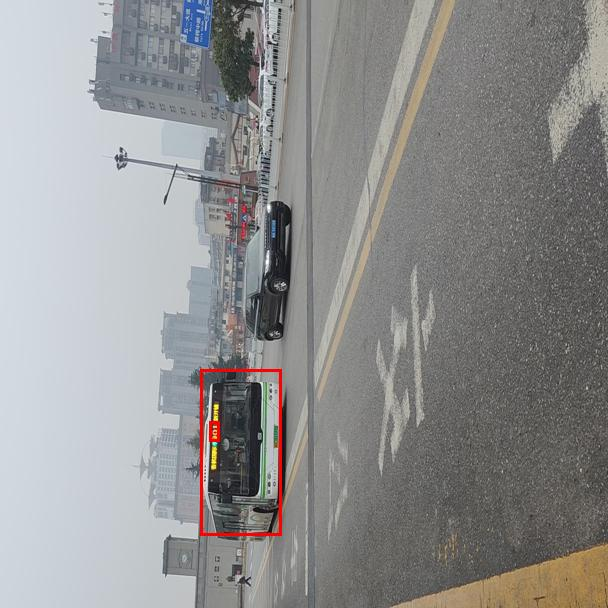bus: (200, 369, 281, 535)
screen: (209, 421, 219, 441)
